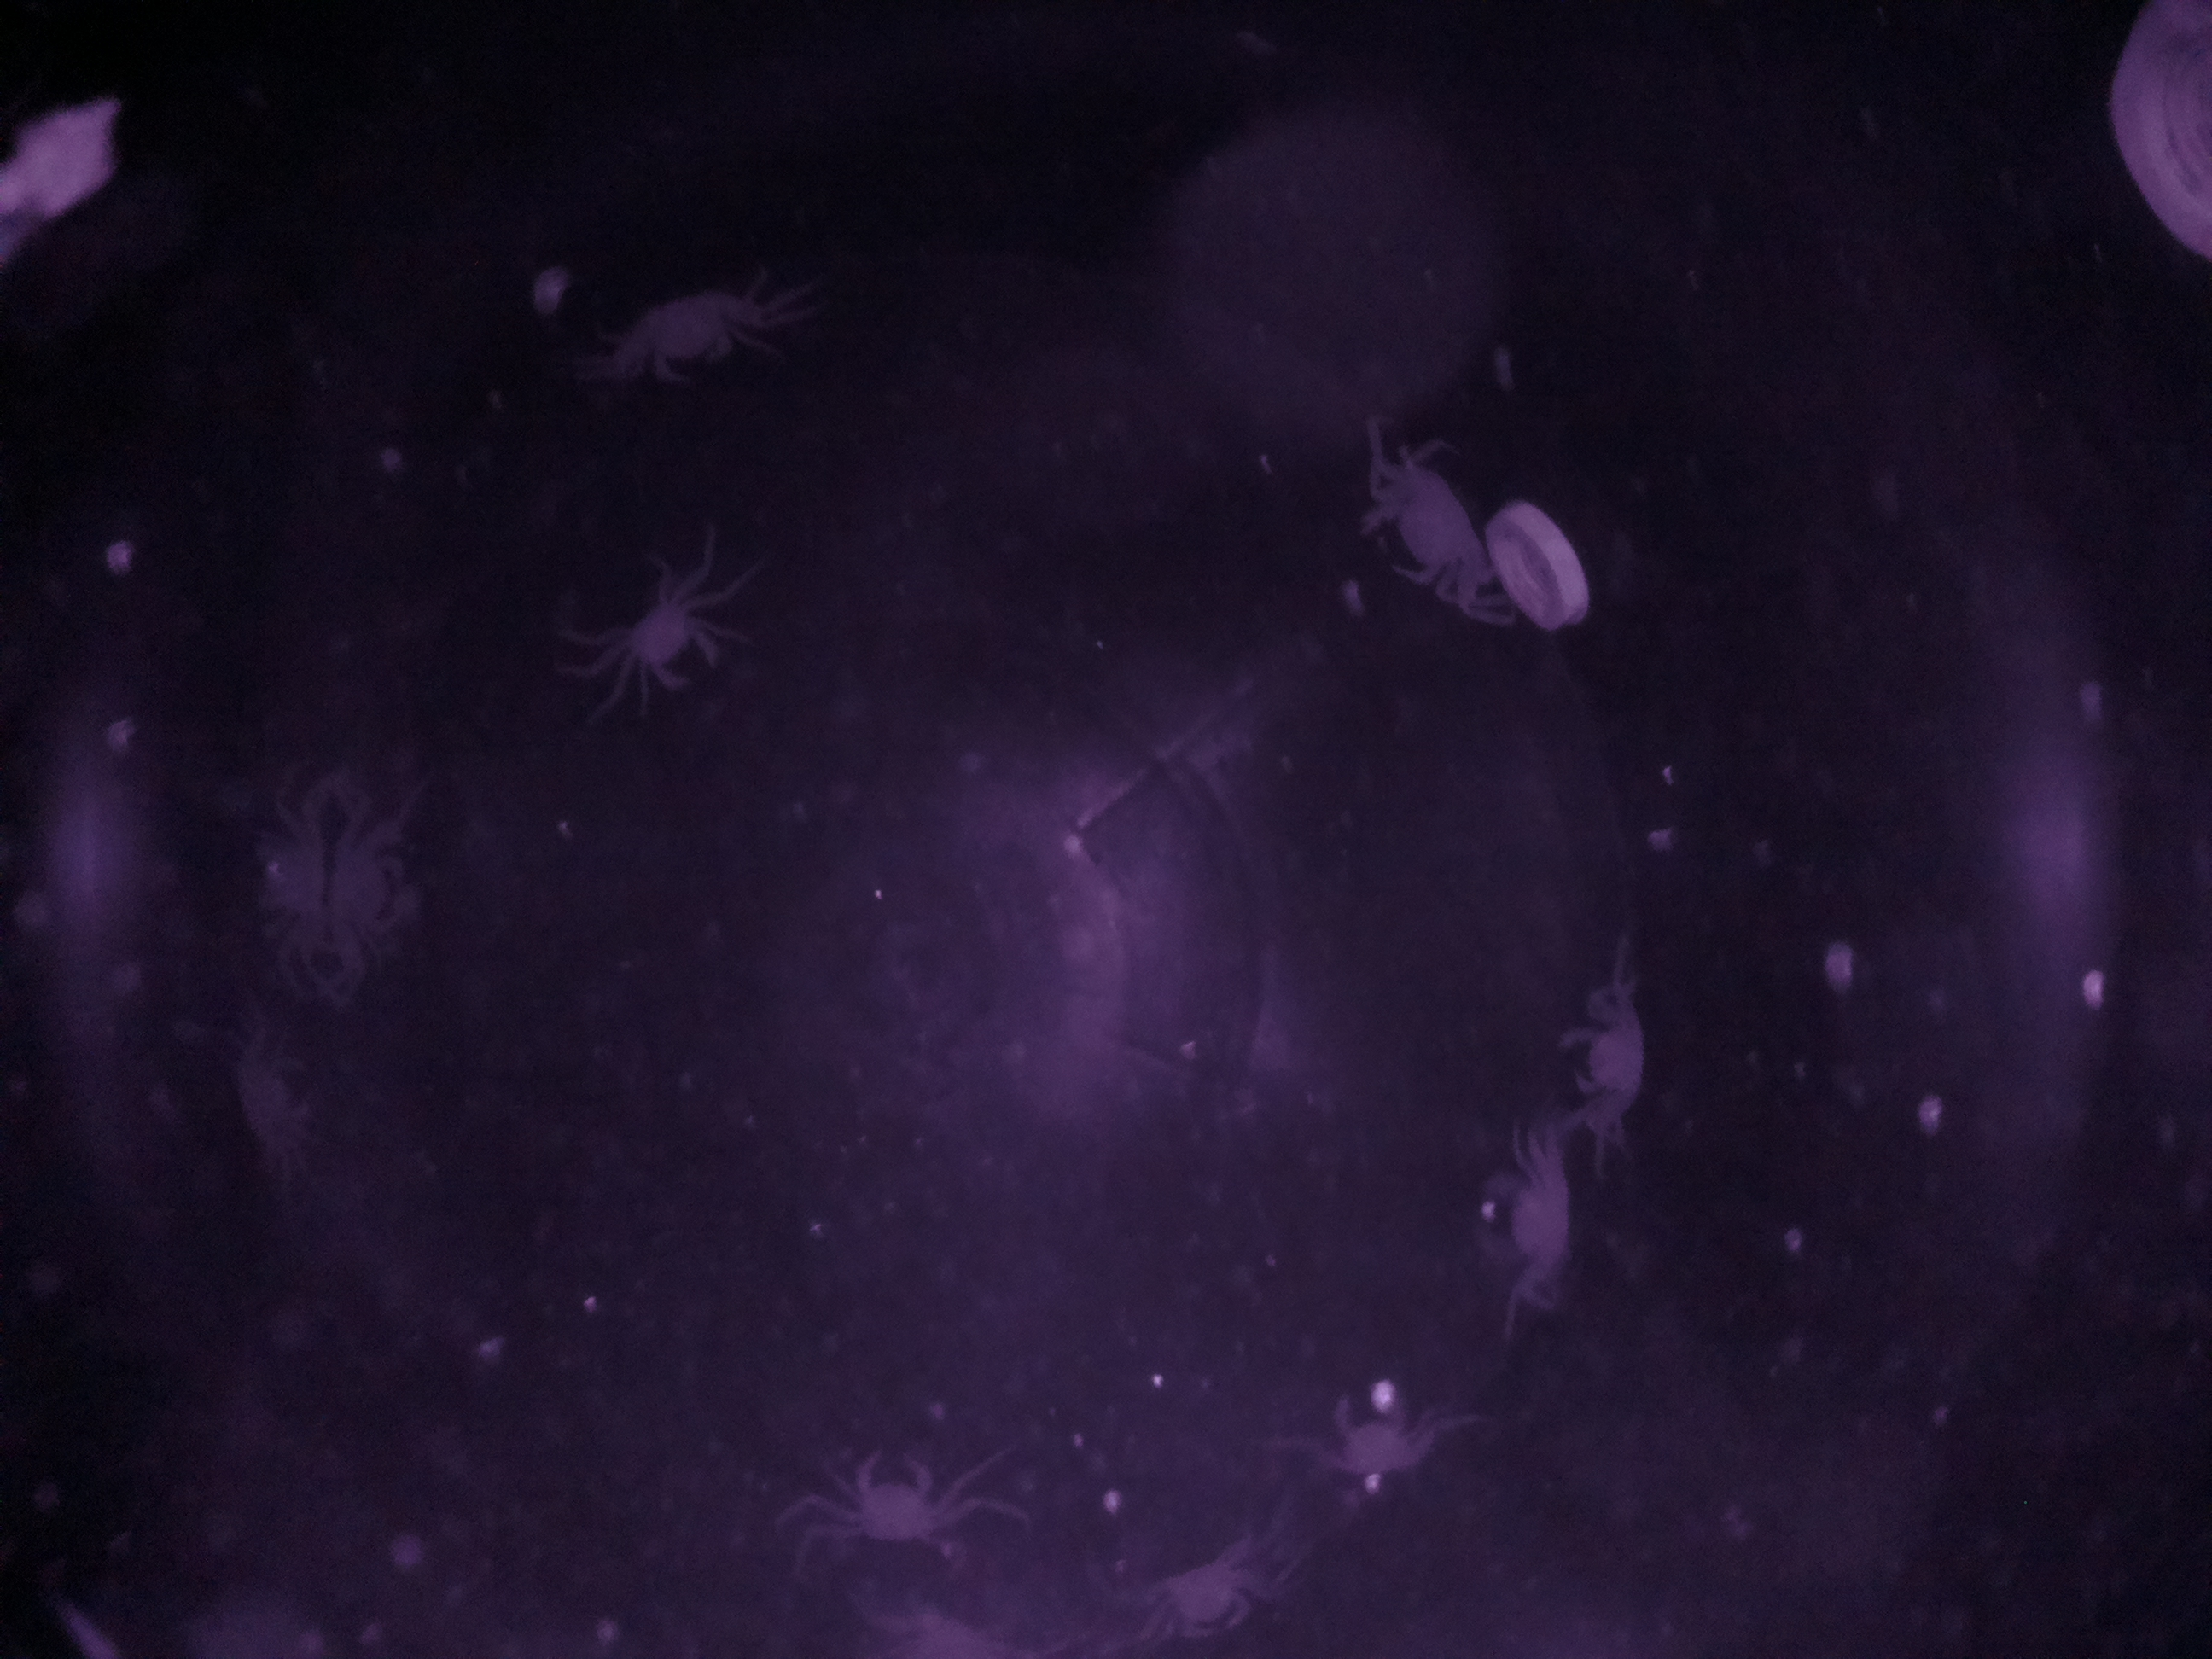Crab: (590, 552, 740, 708), (829, 1424, 974, 1574)
